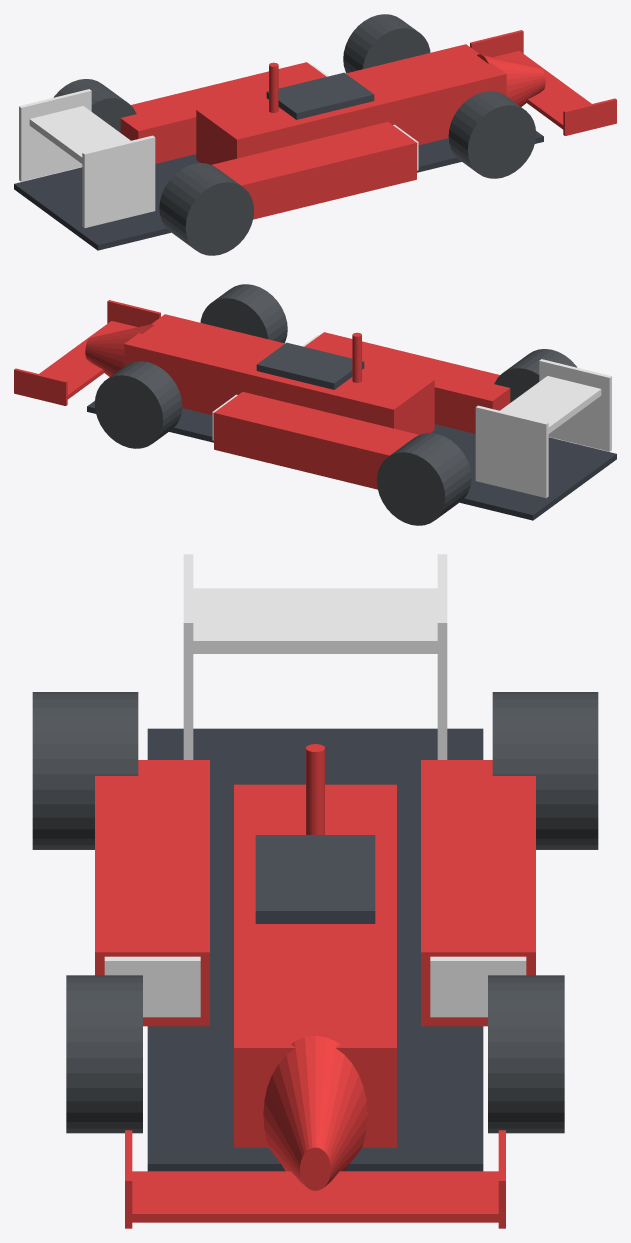
Rendered from 1988_turbo.glb.
3 renders of one model, top to bottom at view 1: azimuth 30°, elevation 25°; view 2: azimuth 150°, elevation 25°; view 3: azimuth 270°, elevation 25°, orthographic. The views are drawn at different scales.
Visible parts, largest first — view 1: chassis_monocoque, sidepod_right, chassis_flat_floor, wheel_rr_tire, sidepod_left, wheel_fr_tire, rear_wing_endplate_right, wheel_fl_tire, rear_wing_endplate_left, rear_wing_mainplane, cockpit_interior, front_wing_mainplane (+5 smaller); view 2: chassis_monocoque, sidepod_left, chassis_flat_floor, wheel_rl_tire, sidepod_right, wheel_fl_tire, rear_wing_endplate_left, wheel_fr_tire, rear_wing_endplate_right, rear_wing_mainplane, cockpit_interior, front_wing_mainplane (+5 smaller); view 3: chassis_flat_floor, chassis_monocoque, sidepod_left, sidepod_right, front_wing_mainplane, rear_wing_mainplane, wheel_rl_tire, wheel_rr_tire, wheel_fl_tire, wheel_fr_tire, chassis_wedge_nose, cockpit_interior (+5 smaller).
Boxes of the visible parts, x1=… form: chassis_monocoque: x1=196, y1=44, x2=506, y2=164; sidepod_right: x1=212, y1=122, x2=416, y2=219; chassis_flat_floor: x1=14, y1=131, x2=543, y2=250; wheel_rr_tire: x1=159, y1=163, x2=253, y2=255; sidepod_left: x1=120, y1=62, x2=326, y2=163; wheel_fr_tire: x1=448, y1=91, x2=536, y2=178; rear_wing_endplate_right: x1=82, y1=135, x2=155, y2=227; wheel_fl_tire: x1=343, y1=14, x2=430, y2=73; rear_wing_endplate_left: x1=19, y1=89, x2=91, y2=181; rear_wing_mainplane: x1=29, y1=106, x2=130, y2=163; cockpit_interior: x1=266, y1=72, x2=374, y2=119; front_wing_mainplane: x1=493, y1=51, x2=591, y2=129; chassis_monocoque: x1=124, y1=314, x2=434, y2=434; sidepod_left: x1=214, y1=392, x2=418, y2=489; chassis_flat_floor: x1=87, y1=401, x2=616, y2=520; wheel_rl_tire: x1=377, y1=433, x2=471, y2=525; sidepod_right: x1=304, y1=332, x2=510, y2=433; wheel_fl_tire: x1=94, y1=361, x2=182, y2=448; rear_wing_endplate_left: x1=475, y1=405, x2=548, y2=497; wheel_fr_tire: x1=200, y1=284, x2=287, y2=343; rear_wing_endplate_right: x1=539, y1=359, x2=611, y2=451; rear_wing_mainplane: x1=500, y1=376, x2=601, y2=433; cockpit_interior: x1=256, y1=342, x2=364, y2=389; front_wing_mainplane: x1=39, y1=321, x2=137, y2=399; chassis_flat_floor: x1=147, y1=728, x2=483, y2=1171; chassis_monocoque: x1=234, y1=784, x2=396, y2=1147; sidepod_left: x1=421, y1=760, x2=535, y2=1026; sidepod_right: x1=95, y1=760, x2=209, y2=1026; front_wing_mainplane: x1=132, y1=1171, x2=498, y2=1222; rear_wing_mainplane: x1=193, y1=588, x2=437, y2=653; wheel_rl_tire: x1=492, y1=692, x2=598, y2=849; wheel_rr_tire: x1=32, y1=692, x2=138, y2=849; wheel_fl_tire: x1=488, y1=975, x2=564, y2=1133; wheel_fr_tire: x1=66, y1=975, x2=142, y2=1133; chassis_wedge_nose: x1=263, y1=1036, x2=367, y2=1190; cockpit_interior: x1=255, y1=835, x2=375, y2=923.
Size of the model in its own units: 4.99 by 1.09 by 2.36.
